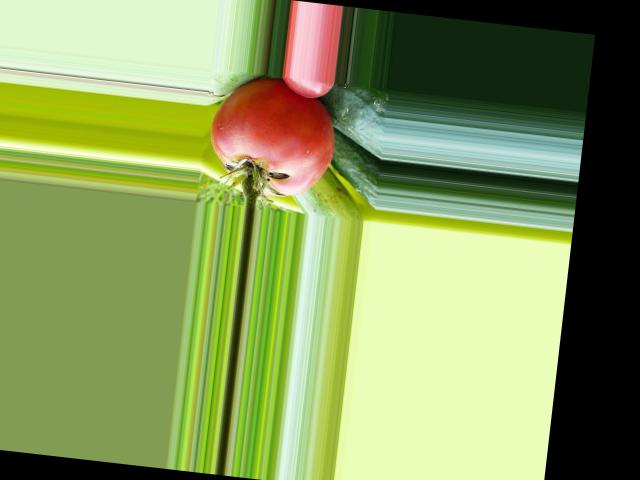tomato: (204, 71, 340, 200)
